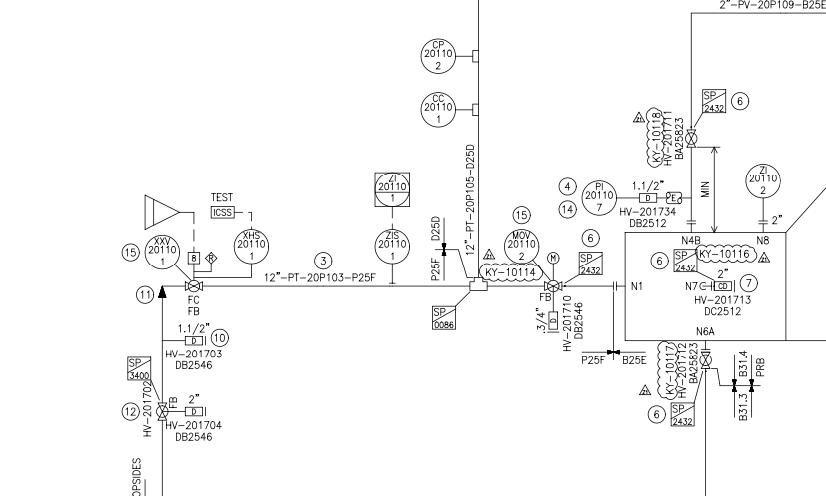Instrument: (737, 159, 785, 204), (578, 172, 620, 223), (417, 89, 463, 132), (366, 227, 412, 269), (141, 228, 182, 274), (227, 224, 272, 265), (499, 224, 539, 268), (417, 36, 459, 74)
Instrument-square: (366, 168, 413, 210)
